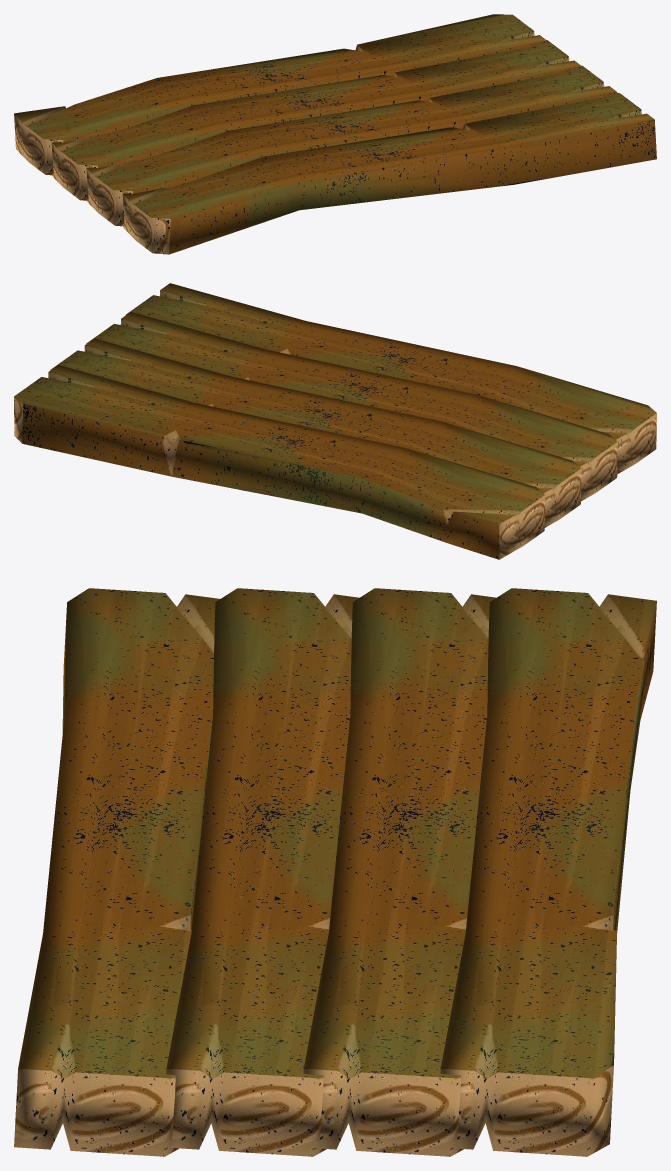
The model's file is wood.fbx.
3 renders of one model, top to bottom at view 1: azimuth 30°, elevation 25°; view 2: azimuth 150°, elevation 25°; view 3: azimuth 270°, elevation 25°, orthographic. The views are drawn at different scales.
Visible parts, largest first — view 1: Box014_Material #31_73; view 2: Box014_Material #31_73; view 3: Box014_Material #31_73.
Boxes of the visible parts, bbox=[...] form: Box014_Material #31_73: bbox=[14, 14, 656, 254]; Box014_Material #31_73: bbox=[14, 283, 656, 559]; Box014_Material #31_73: bbox=[14, 588, 656, 1156].
Size of the model in its own units: 25.17 by 2.72 by 14.5.
